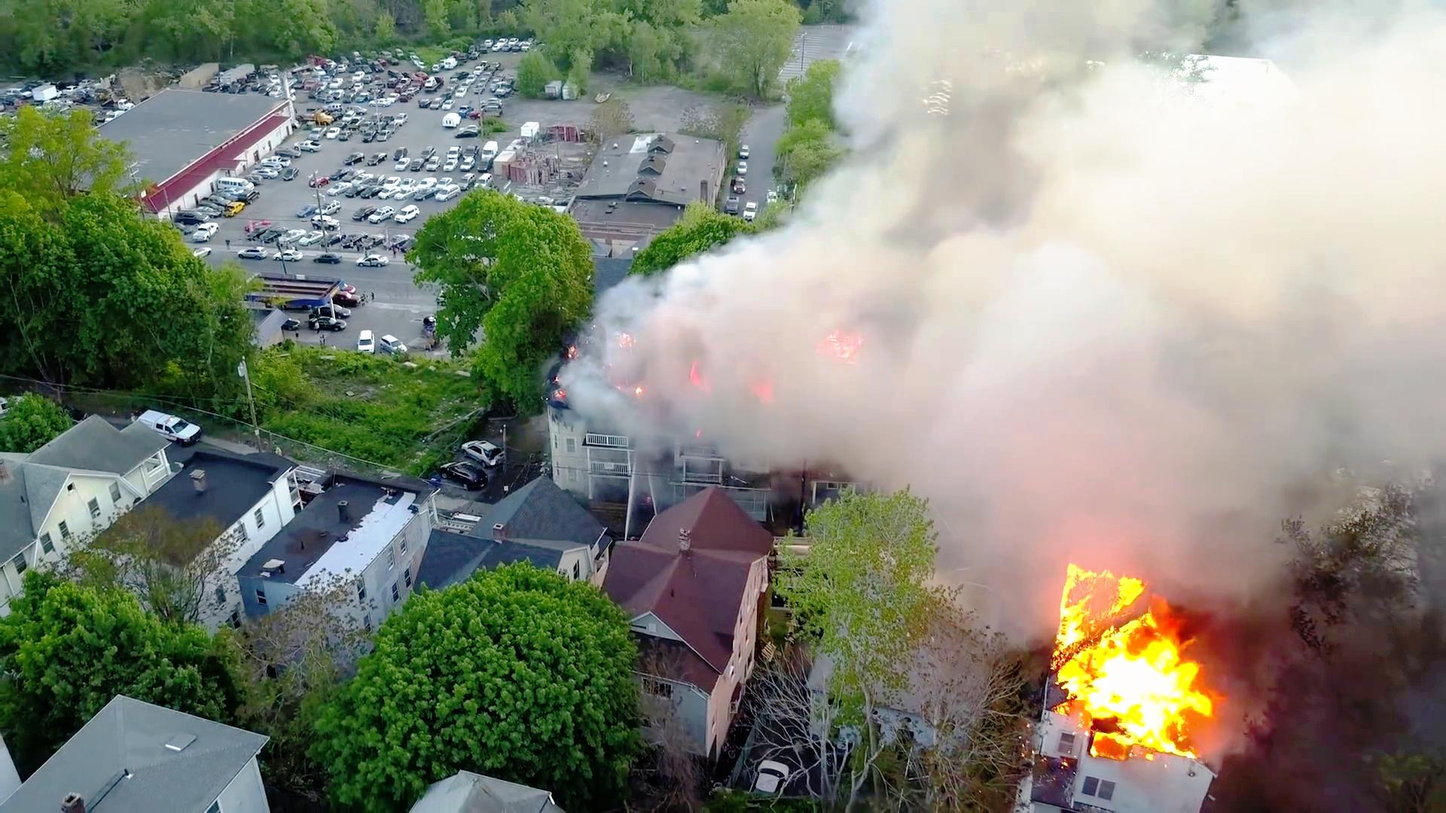fire: (1066, 588, 1207, 765)
smoke: (691, 253, 1446, 470)
